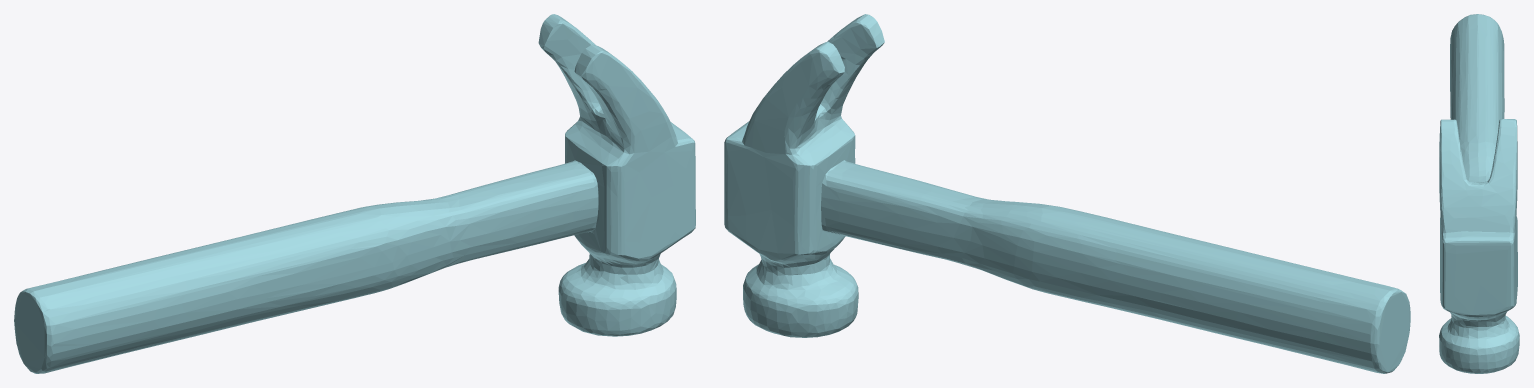
The model's file is toy_hammer.obj.
3 renders of one model, left to right at view 1: azimuth 30°, elevation 25°; view 2: azimuth 150°, elevation 25°; view 3: azimuth 270°, elevation 25°, orthographic. The views are drawn at different scales.
Parts seen in each view (by area): view 1: geometry_0; view 2: geometry_0; view 3: geometry_0.
Part boxes in pixels (x1,y1,x2,y2): geometry_0: [14, 14, 695, 373]; geometry_0: [724, 14, 1410, 373]; geometry_0: [1439, 14, 1519, 373].
Bounding box in the file's own units: 0.195 × 0.0856 × 0.028.
